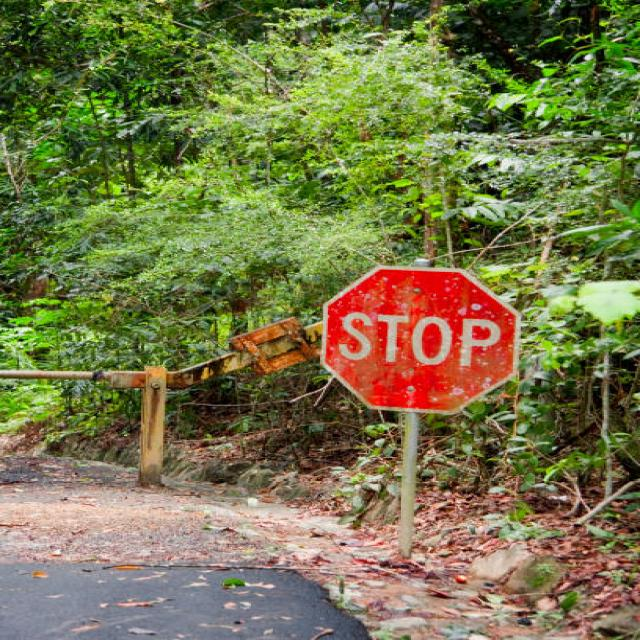stop: (308, 259, 532, 425)
